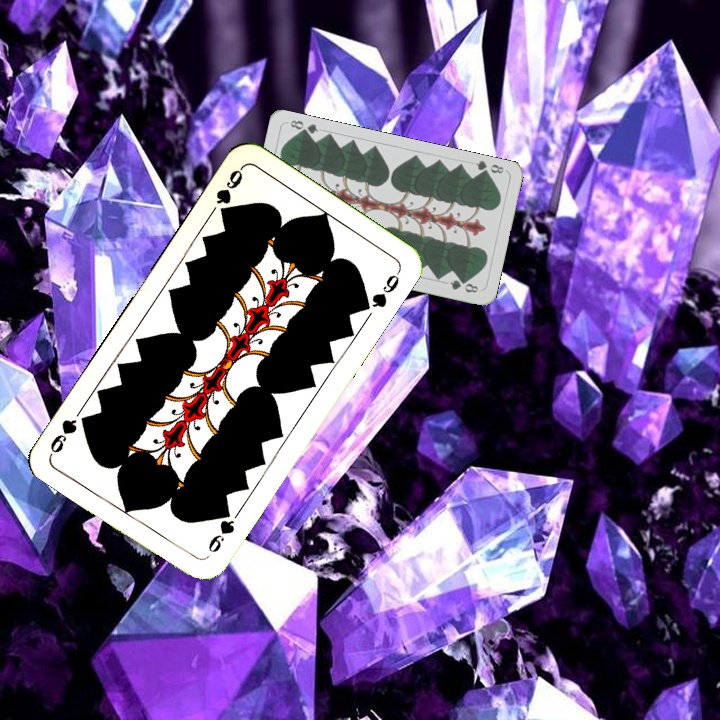G8: (472, 157, 506, 179)
G9: (211, 163, 246, 221), (202, 503, 237, 560)
